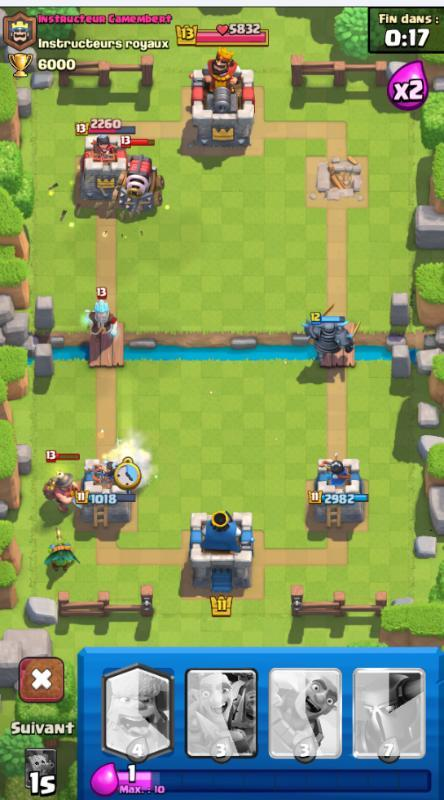enemy_ice_wizard: (77, 285, 124, 339)
enemy_miner: (34, 447, 82, 512)
enemy_sparky: (111, 150, 169, 217)
player_dart_goblin: (40, 522, 87, 576)
player_pekka: (297, 299, 368, 364)
